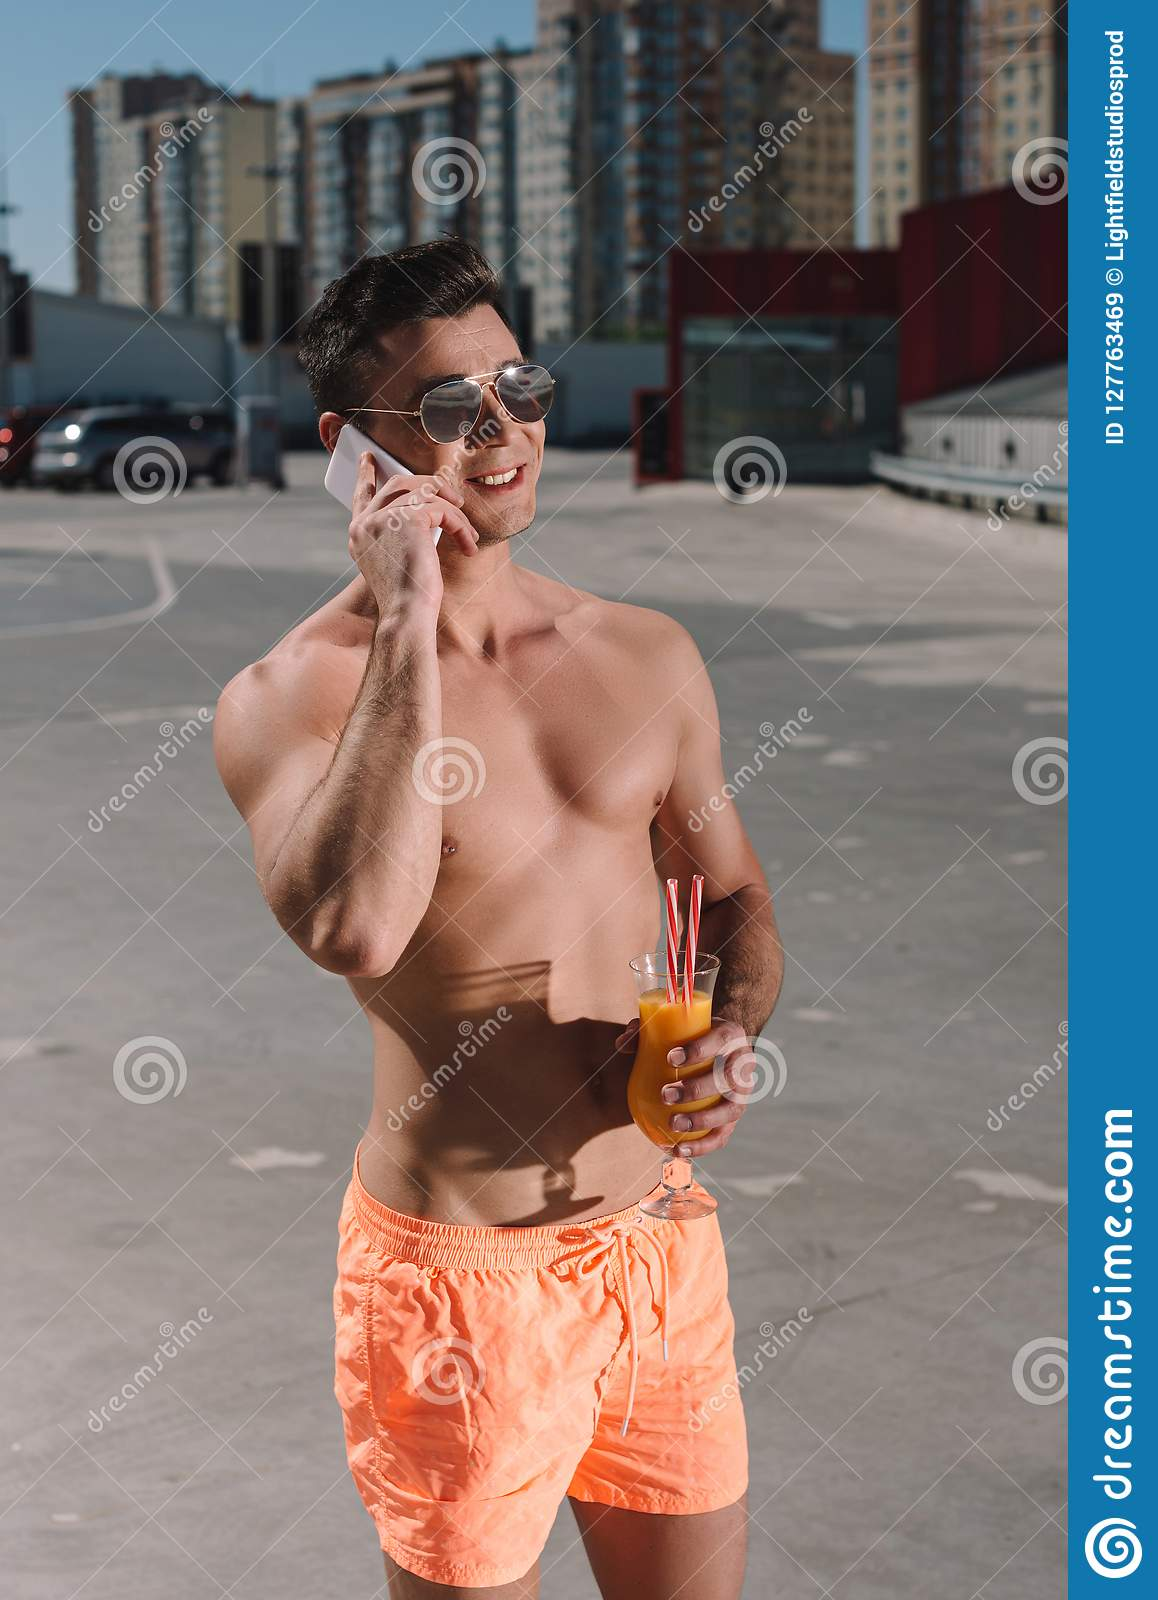phone: (326, 420, 445, 553)
talk: (324, 355, 550, 634)
